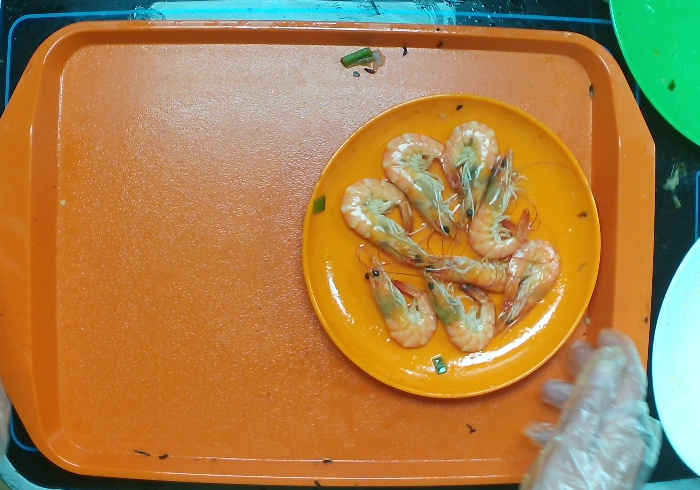HZYJPL-Ju_Huang_Yuan_Pan: (299, 92, 604, 401)
